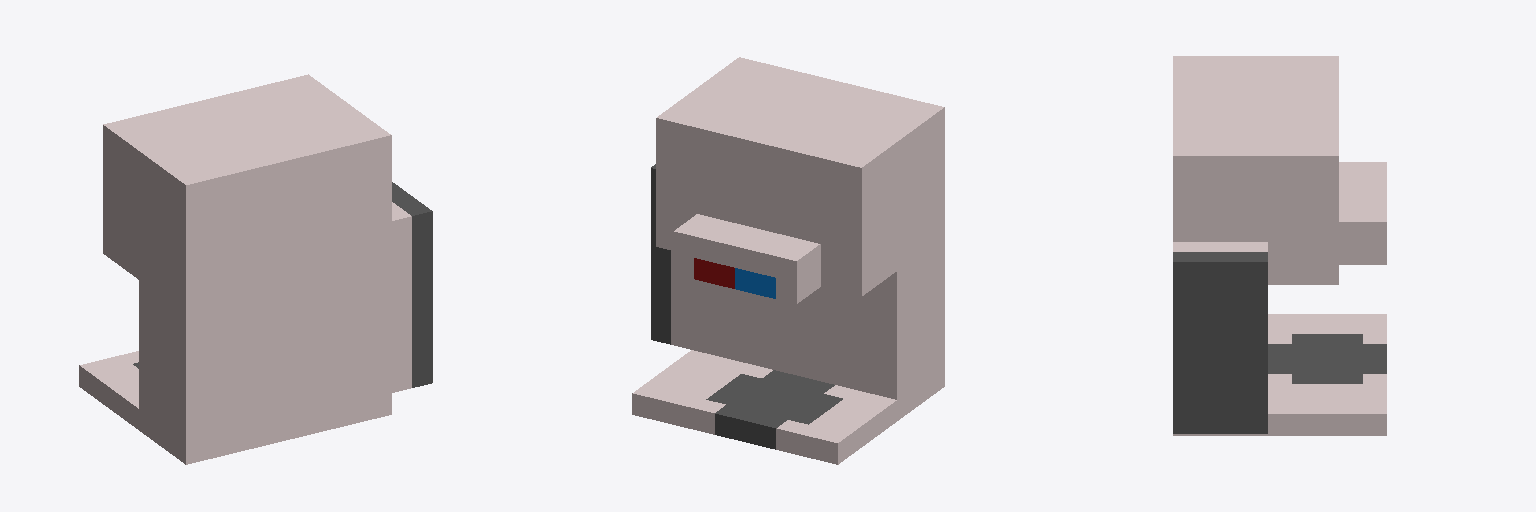
The picture shows the model from 3 angles: view 1: azimuth 30°, elevation 25°; view 2: azimuth 150°, elevation 25°; view 3: azimuth 270°, elevation 25°; orthographic projection.
Parts seen in each view (by area): view 1: object 1; view 2: object 1; view 3: object 1.
Boxes of the visible parts, <box> form: object 1: <box>79,74,432,464</box>; object 1: <box>632,57,944,464</box>; object 1: <box>1173,56,1386,435</box>.
Bounding box in the file's own units: 1.2 × 1.3 × 0.9.
1 materials, 1 textured.